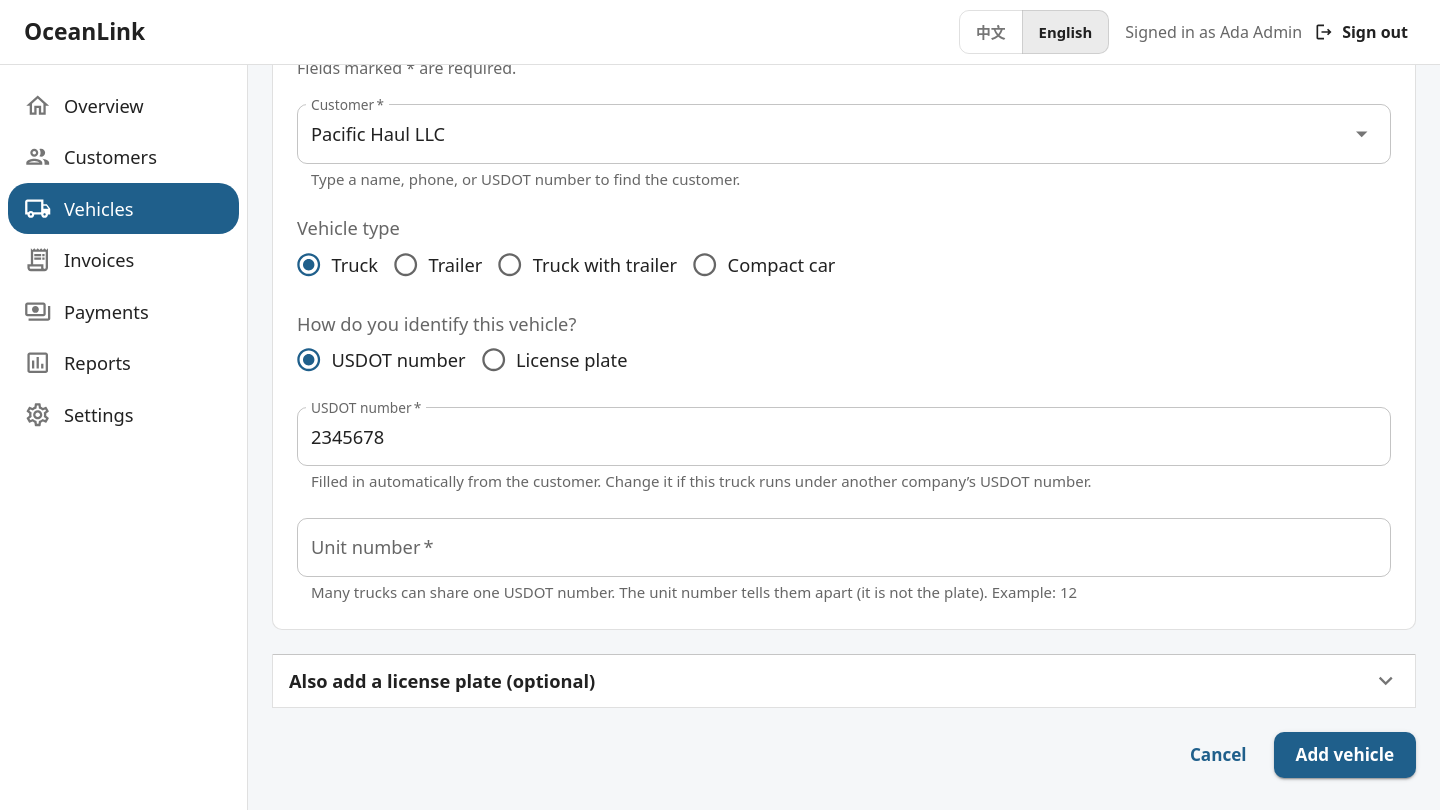
Test case: vehicle form: collapsed section › does not ask for a unit number when a plate and state are given
(page scrolled)
Click the button "Also add a license plate (optional)": (442, 681) top-left (273, 655), bottom-right (1415, 707)
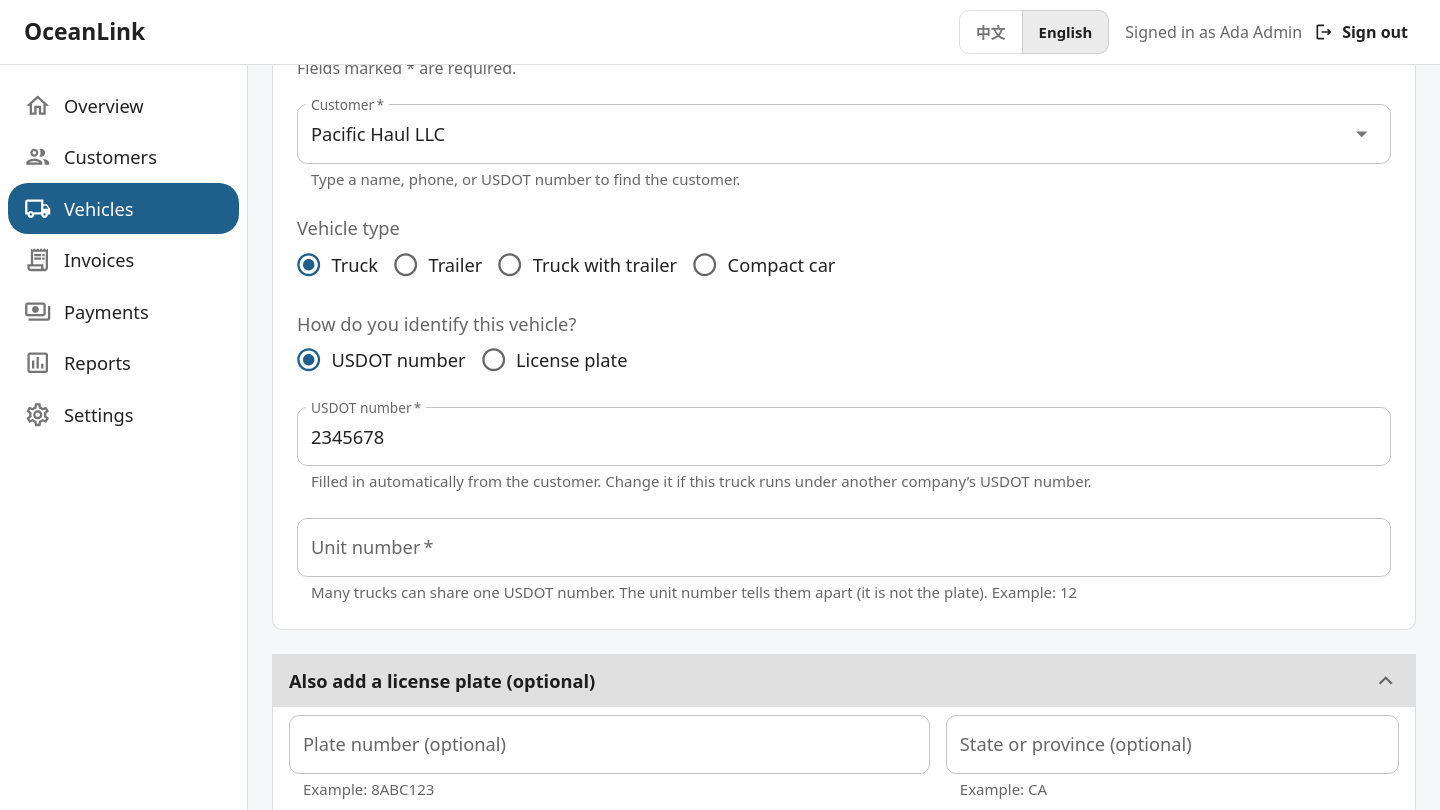
In the field labelled "Plate number (optional)": (609, 744) top-left (289, 715), bottom-right (930, 774), type "9QQQ111"
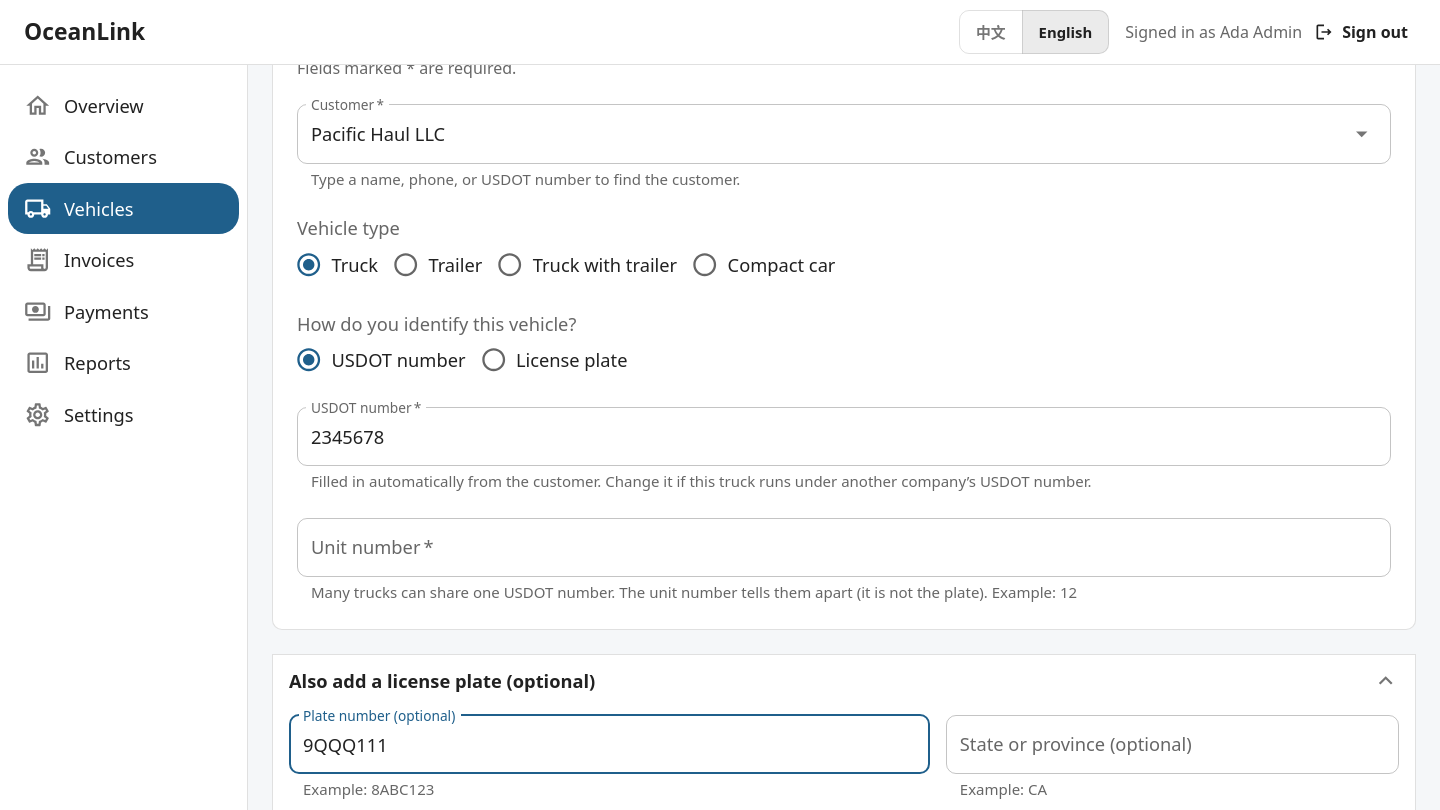
In the field labelled "State or province (optional)": (1172, 744) top-left (946, 715), bottom-right (1399, 774), type "CA"
(page scrolled)
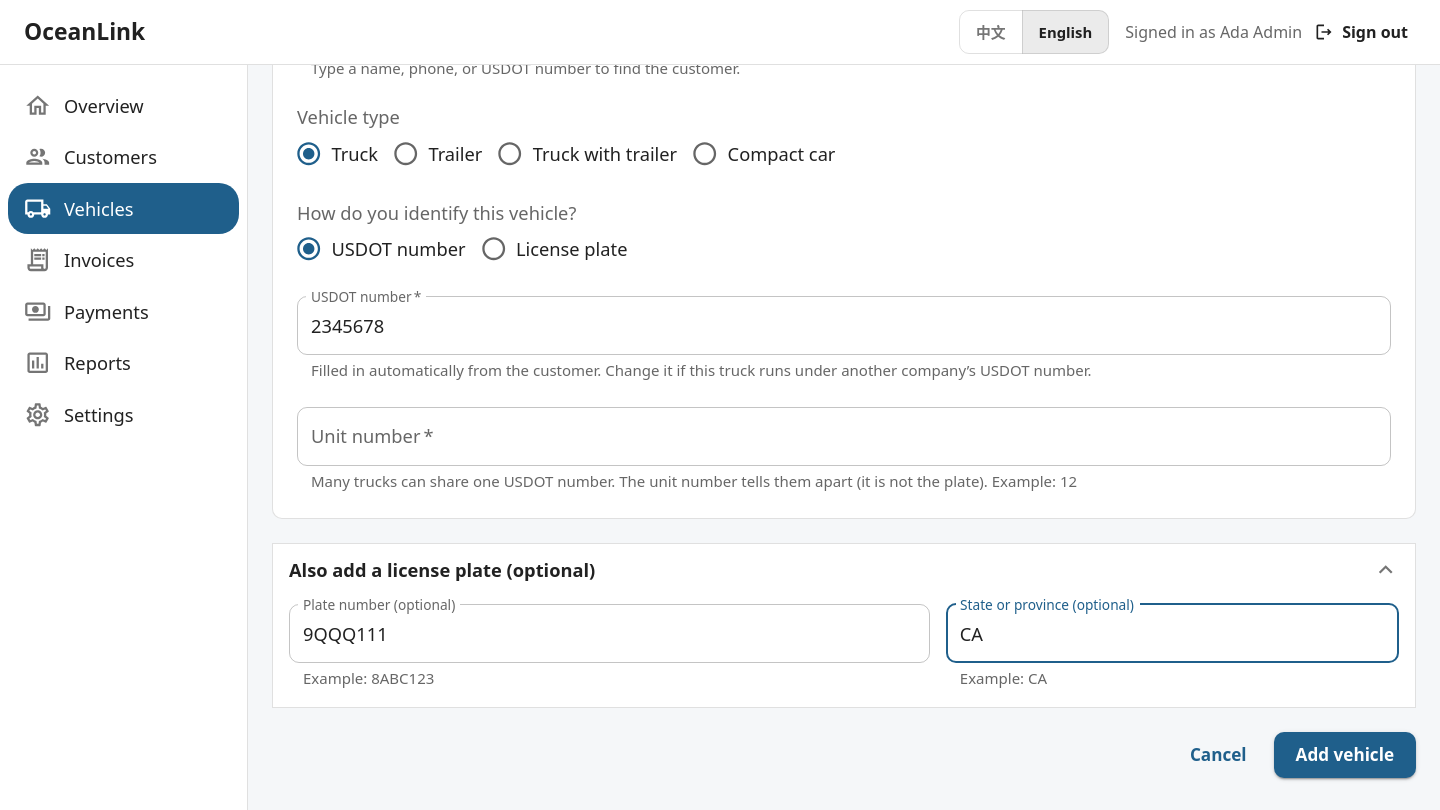
Click the button "Add vehicle": (1345, 755) top-left (1274, 732), bottom-right (1416, 778)
(page scrolled)
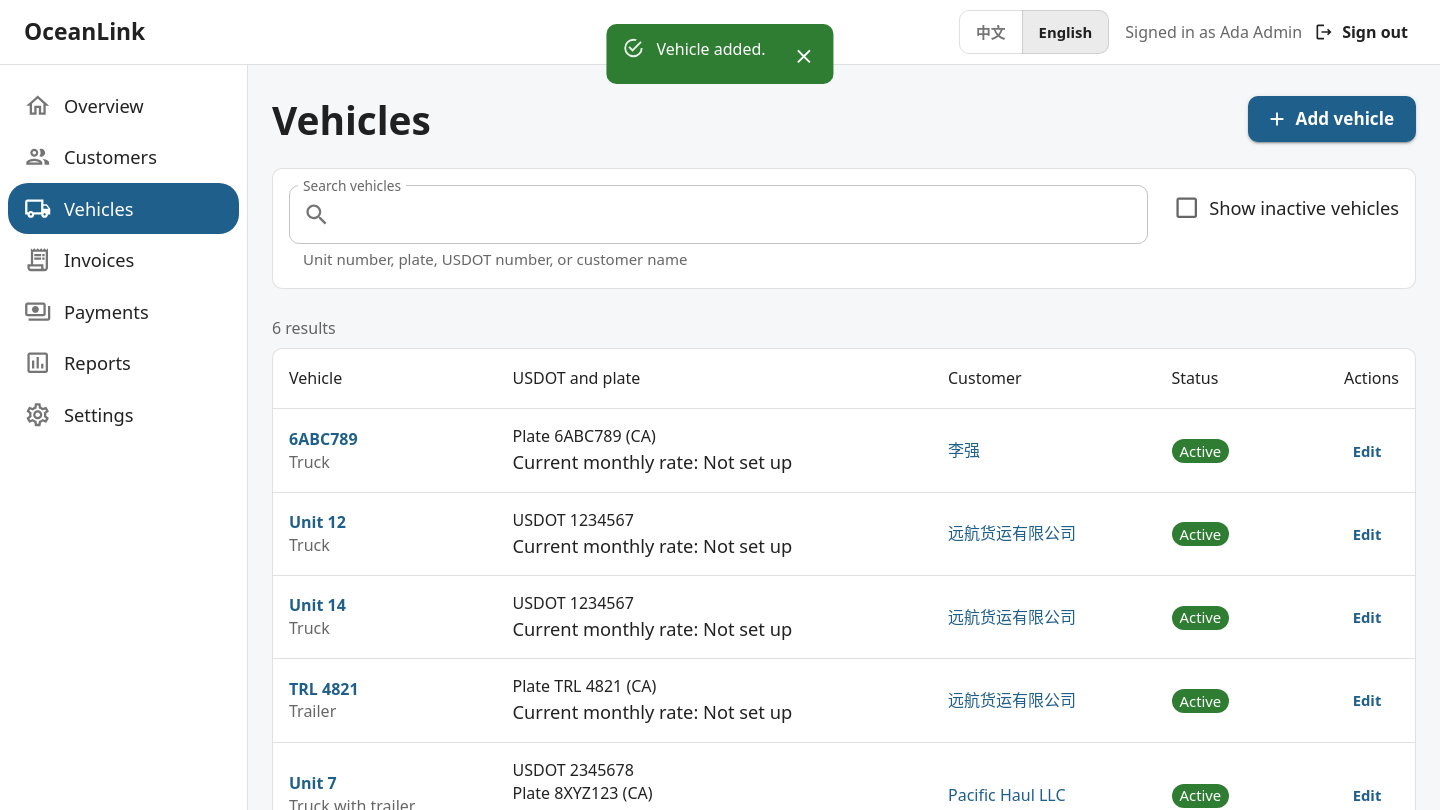
Expected: the text "Vehicle added." is shown, top-left (656, 38), bottom-right (766, 60)
